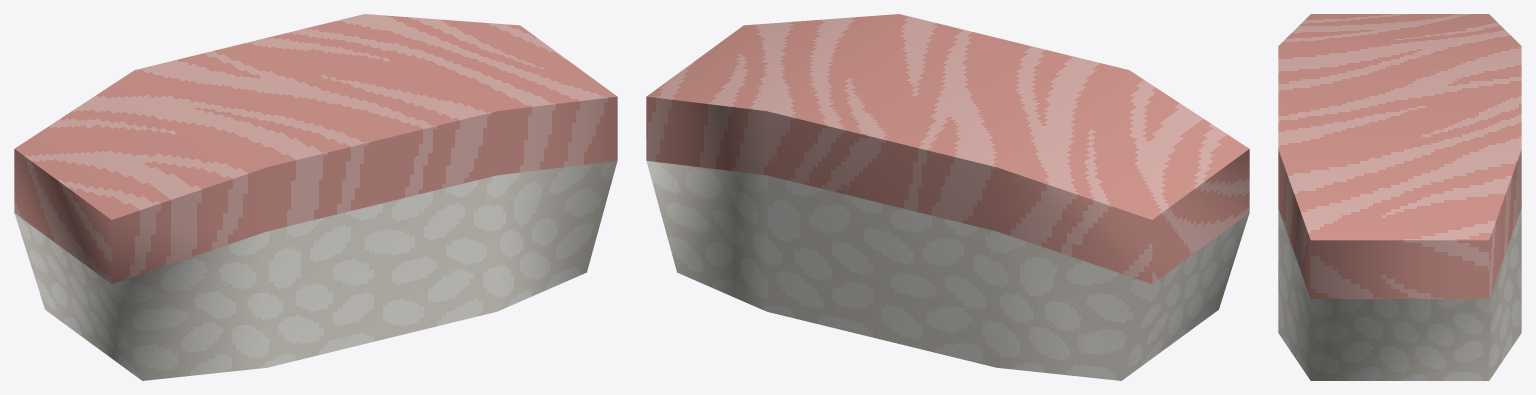
Rendered from 004b_Tuna_Sushi.glb.
3 renders of one model, left to right at view 1: azimuth 30°, elevation 25°; view 2: azimuth 150°, elevation 25°; view 3: azimuth 270°, elevation 25°, orthographic. The views are drawn at different scales.
Visible parts, largest first — view 1: part_0; view 2: part_0; view 3: part_0.
Boxes of the visible parts, box(x1,y1,x2,y2) form: part_0: box(14, 14, 617, 380); part_0: box(646, 14, 1249, 380); part_0: box(1278, 14, 1521, 380).
Bounding box in the file's own units: 0.066 × 0.025 × 0.03.
Materials: 1 (1 with a texture image).
